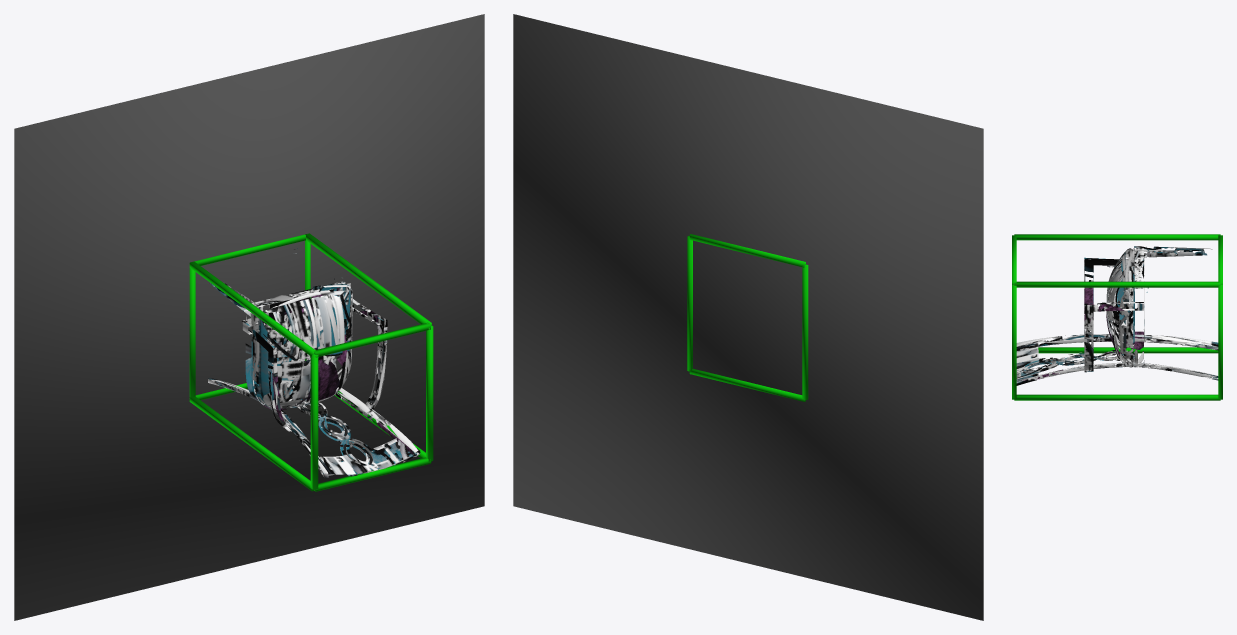
3 renders of one model, left to right at view 1: azimuth 30°, elevation 25°; view 2: azimuth 150°, elevation 25°; view 3: azimuth 270°, elevation 25°, orthographic. The views are drawn at different scales.
Size of the model in its own units: 2 by 2 by 0.923.
